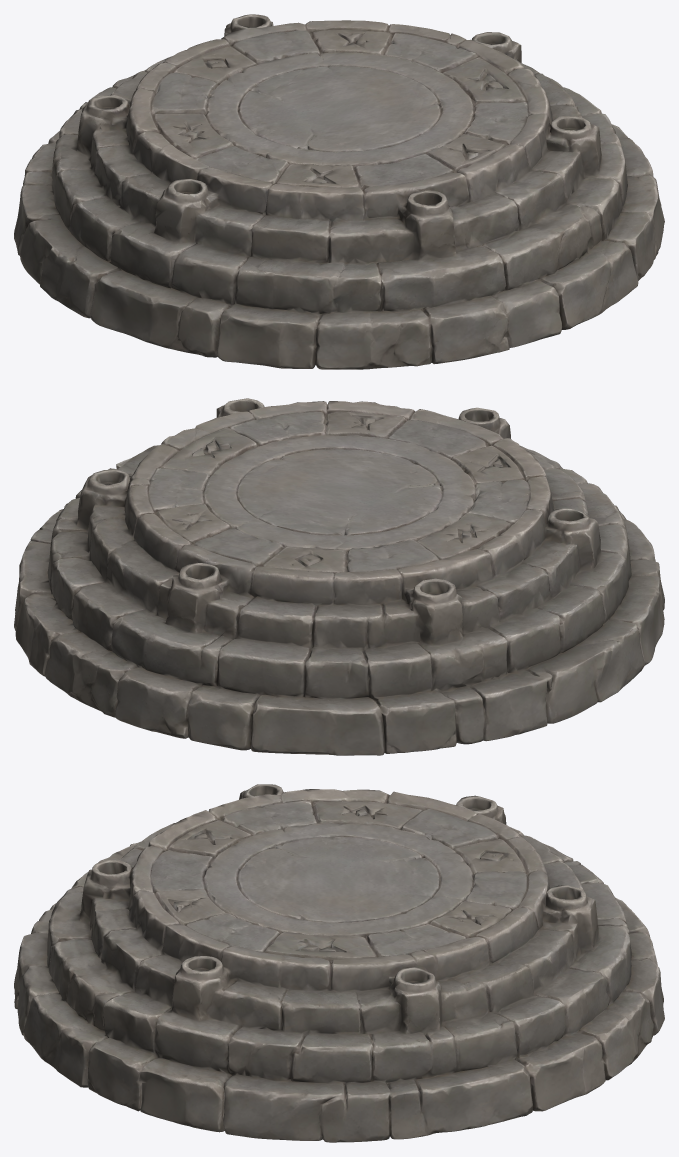
Rendered from arrival_altar.glb.
The picture shows the model from 3 angles, top to bottom: view 1: azimuth 30°, elevation 25°; view 2: azimuth 150°, elevation 25°; view 3: azimuth 270°, elevation 25°; orthographic projection.
Visible parts, largest first — view 1: tripo_node_7f56a3b1-389a-4acf-bee2-2a24c85aa0c7; view 2: tripo_node_7f56a3b1-389a-4acf-bee2-2a24c85aa0c7; view 3: tripo_node_7f56a3b1-389a-4acf-bee2-2a24c85aa0c7.
Boxes of the visible parts, box(x1,y1,x2,y2) form: tripo_node_7f56a3b1-389a-4acf-bee2-2a24c85aa0c7: box(14, 14, 664, 369); tripo_node_7f56a3b1-389a-4acf-bee2-2a24c85aa0c7: box(14, 398, 664, 755); tripo_node_7f56a3b1-389a-4acf-bee2-2a24c85aa0c7: box(14, 784, 664, 1142).
Bounding box in the file's own units: 1 × 0.2166 × 0.9966.
1 material, 1 textured.
